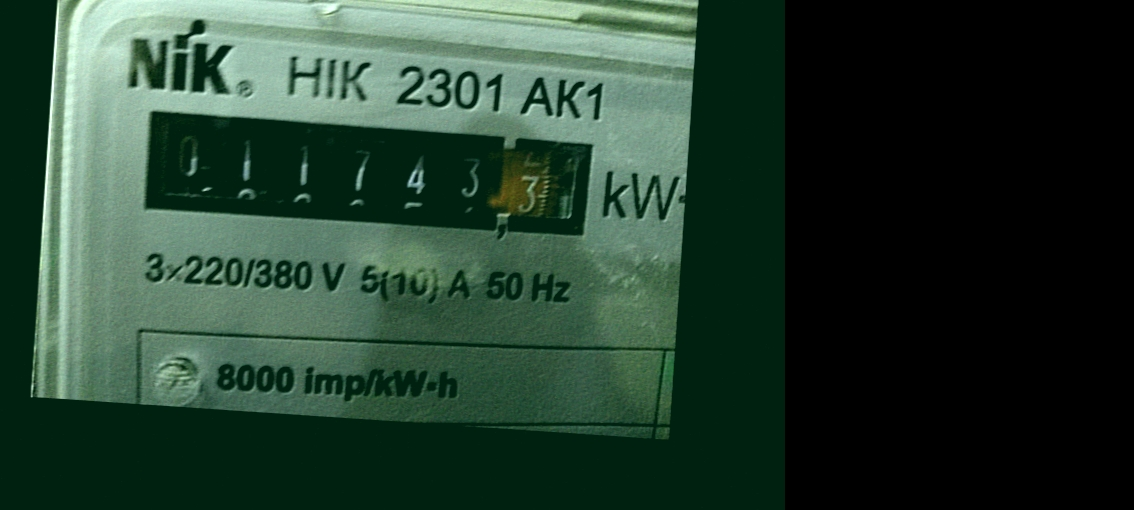0: (174, 134, 206, 183)
1: (294, 143, 318, 192), (239, 139, 259, 188)
3: (458, 156, 489, 205), (517, 174, 544, 219)
4: (404, 151, 435, 201)
7: (350, 149, 377, 198)
screen: (130, 103, 602, 252)
